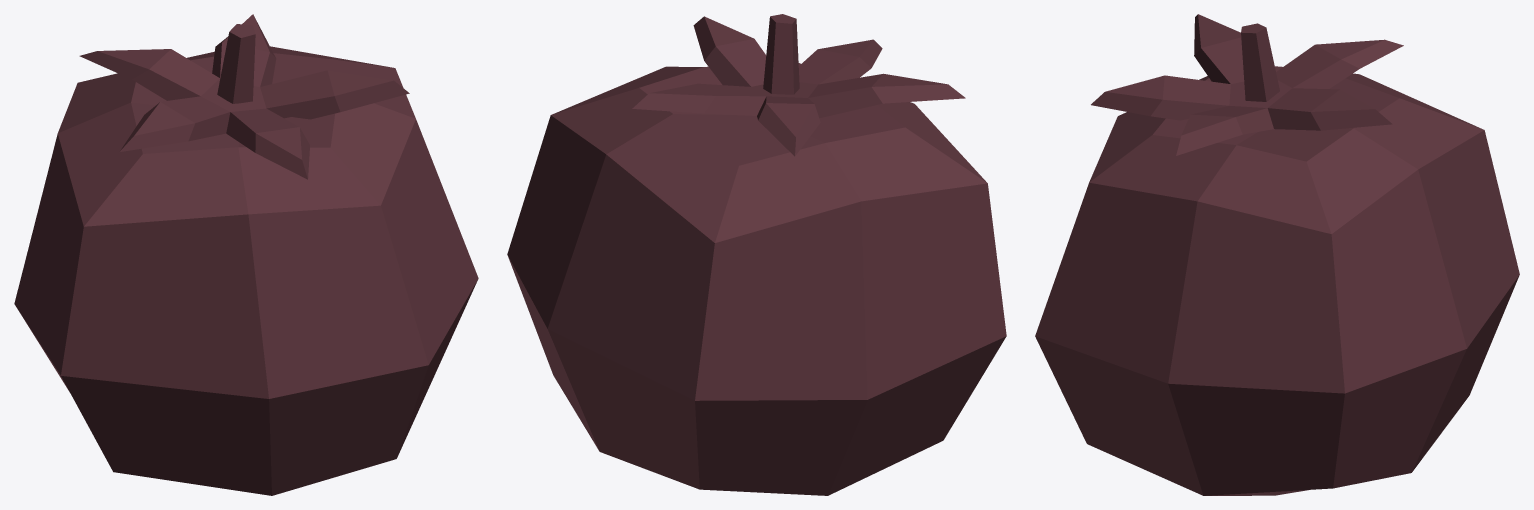
The model's file is tomato.fbx.
The picture shows the model from 3 angles, left to right: view 1: azimuth 30°, elevation 25°; view 2: azimuth 150°, elevation 25°; view 3: azimuth 270°, elevation 25°; orthographic projection.
Parts seen in each view (by area): view 1: tomato; view 2: tomato; view 3: tomato.
Part boxes in pixels (x1,y1,x2,y2): tomato: (14, 14, 478, 495); tomato: (507, 14, 1006, 495); tomato: (1035, 14, 1519, 495).
Bounding box in the file's own units: 0.1288 × 0.1294 × 0.1265.
